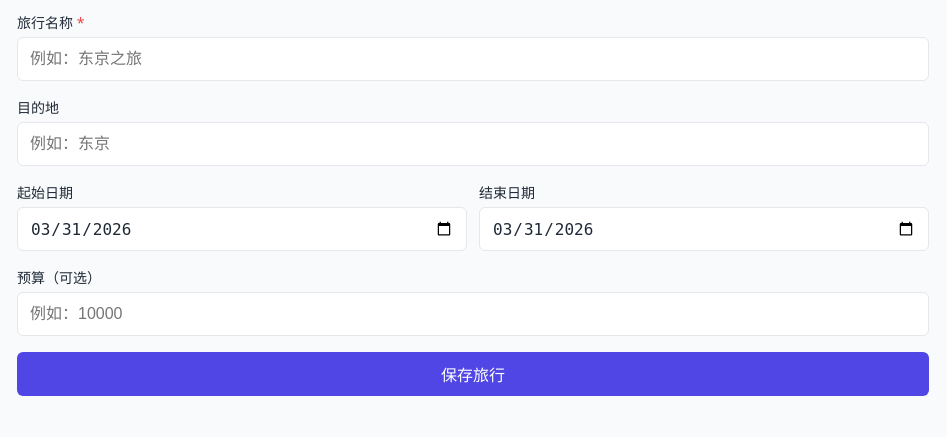
Test: TripForm › 名称为空时显示验证错误
名称留空，直接提交
Click the button "保存旅行": point(473, 374) [17,352,929,396]
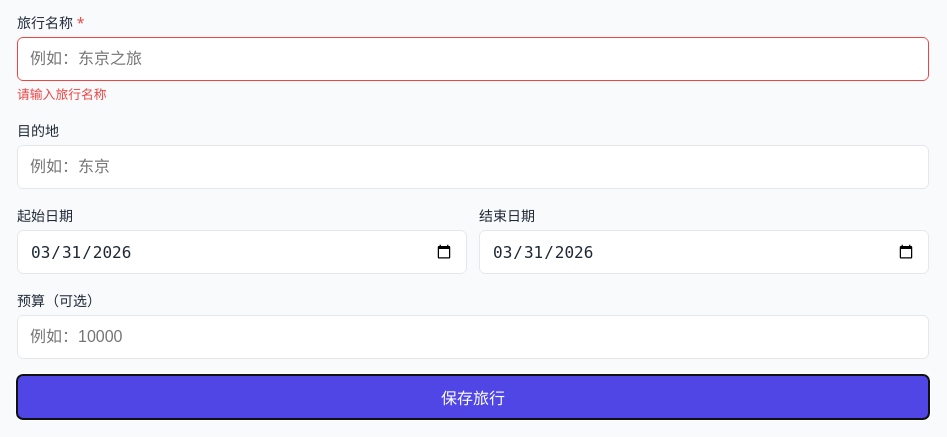
Expected: the text "请输入旅行名称" is shown, [17,85,107,103]
